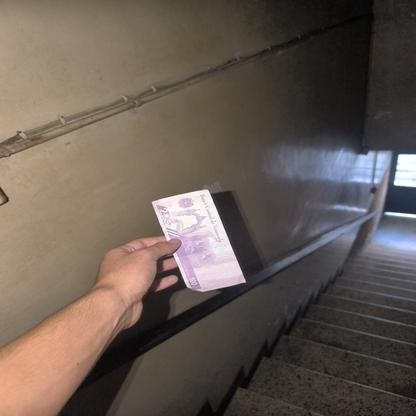one_hundred-back-vef: (150, 188, 247, 292)
